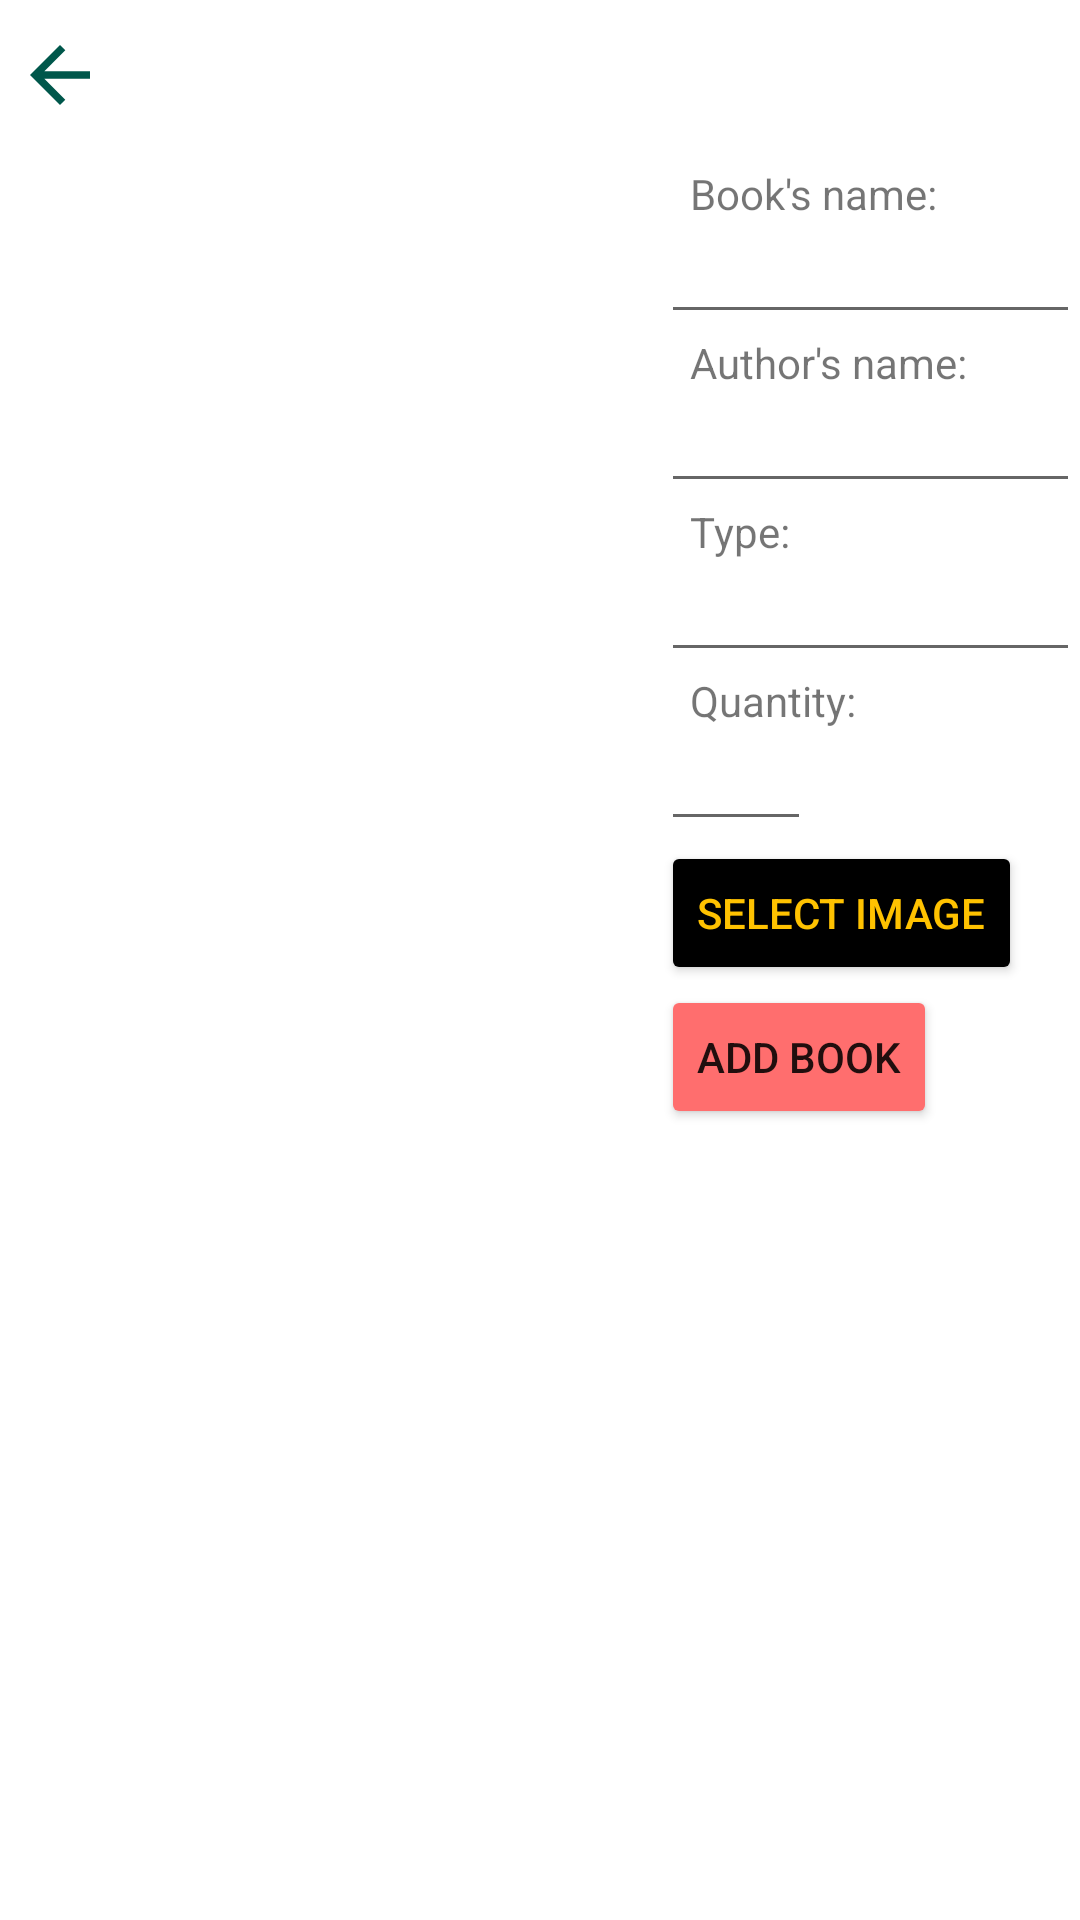

Locate icon controls on the screen. Image size 1080 x 1920, boxes as detection(x1, y1, x2, y2).
arrow back: detection(30, 45, 90, 105)
